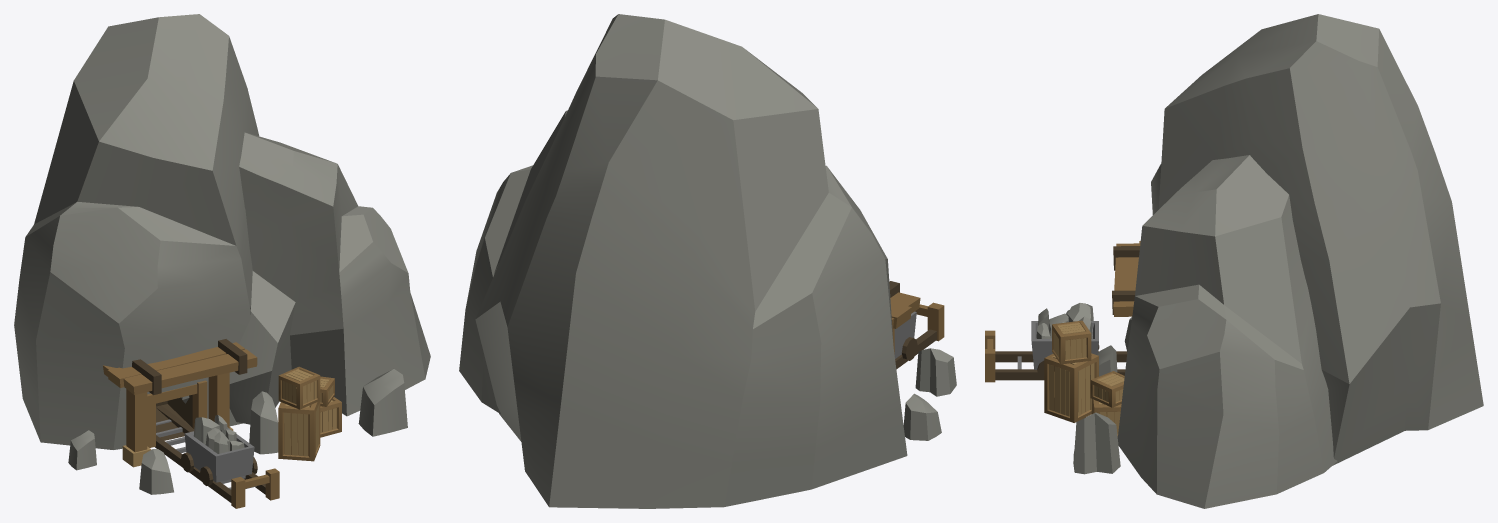
The model's file is Mine.glb.
3 views of the same model, side by side, from view 1: azimuth 30°, elevation 25°; view 2: azimuth 150°, elevation 25°; view 3: azimuth 270°, elevation 25° (orthographic). The views are drawn at different scales.
Visible parts, largest first — view 1: Mine; view 2: Mine; view 3: Mine.
Boxes of the visible parts, x1,y1,x2,y2 form: Mine: (14, 14, 430, 508); Mine: (459, 14, 956, 508); Mine: (985, 14, 1483, 508).
Bounding box in the file's own units: 1.28 × 1.17 × 1.36.
